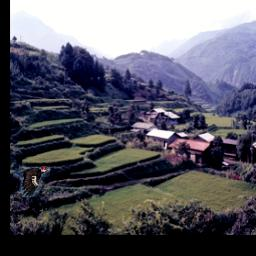Woodpecker: (14, 166, 51, 197)
